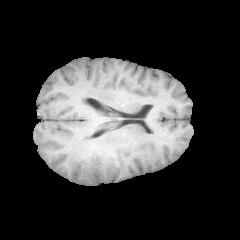glioma: (77, 141, 115, 180)
